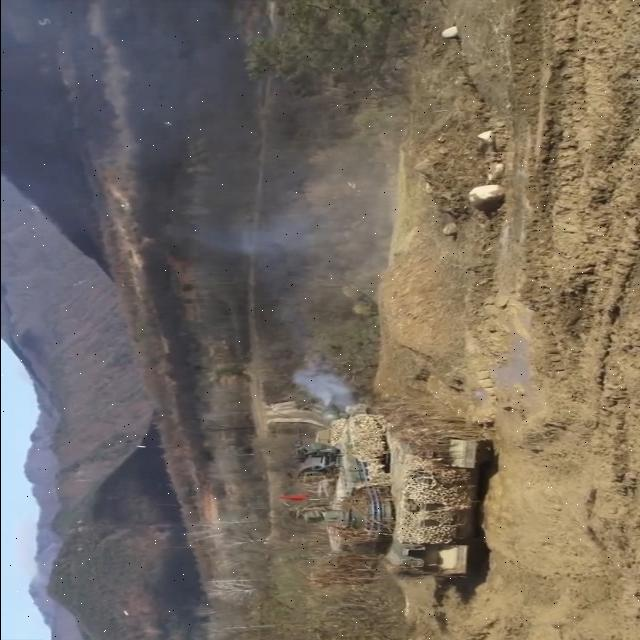korea tank: (287, 348, 494, 585)
